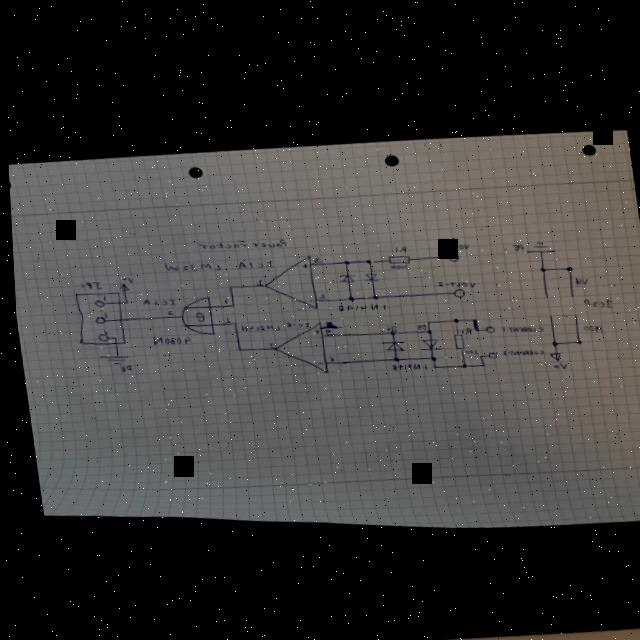diode: (375, 332, 403, 348), (415, 331, 438, 347), (334, 266, 353, 279), (359, 265, 376, 277)
ground: (519, 231, 555, 251), (95, 349, 126, 364)
junction: (455, 355, 464, 363), (536, 258, 544, 266), (562, 257, 570, 265), (231, 341, 239, 349), (425, 349, 433, 357), (361, 253, 370, 260), (546, 333, 555, 340), (224, 298, 233, 305), (466, 311, 475, 318), (339, 254, 347, 261), (222, 280, 230, 287), (448, 311, 456, 318), (571, 331, 579, 338), (426, 357, 434, 364), (387, 351, 395, 358), (342, 290, 351, 296), (368, 289, 376, 295), (475, 356, 481, 361), (228, 317, 234, 322), (118, 298, 124, 303), (386, 326, 391, 329), (423, 315, 427, 318), (474, 348, 479, 350), (471, 322, 475, 324), (423, 324, 427, 326)
resistor: (382, 248, 408, 261), (447, 327, 462, 345)
source: (544, 344, 558, 355), (114, 280, 126, 290)
terminal: (67, 286, 124, 348), (448, 281, 463, 292), (444, 245, 457, 256), (480, 318, 491, 327), (482, 345, 494, 353), (540, 287, 546, 293), (543, 306, 549, 310), (566, 286, 571, 290), (569, 306, 573, 310)
text: (192, 229, 286, 252), (158, 255, 219, 271), (332, 295, 384, 310), (146, 328, 189, 345), (234, 316, 277, 331), (492, 339, 541, 352), (496, 315, 541, 329), (384, 354, 424, 369), (232, 254, 271, 268), (433, 271, 474, 284), (578, 289, 611, 303), (432, 234, 467, 247), (136, 294, 173, 306), (74, 277, 100, 290), (576, 315, 601, 328), (280, 316, 307, 326), (568, 268, 586, 279), (385, 257, 406, 266), (112, 359, 127, 371), (389, 239, 406, 249), (547, 355, 564, 364), (379, 318, 394, 328), (116, 272, 131, 282), (455, 320, 468, 330), (318, 322, 331, 332), (509, 236, 522, 246), (459, 342, 475, 350), (313, 286, 324, 296), (321, 349, 333, 358), (411, 317, 422, 326), (250, 274, 261, 283), (161, 306, 172, 313), (218, 313, 229, 320), (308, 252, 319, 259), (298, 258, 306, 265), (263, 337, 270, 344), (219, 294, 224, 303), (310, 324, 316, 329), (312, 354, 318, 359), (303, 294, 310, 298)
